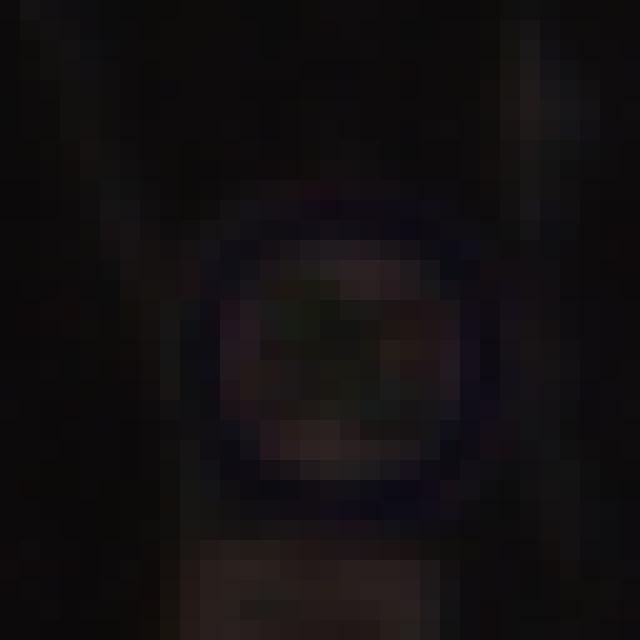SPEED-LIMIT-80: (163, 201, 507, 507)
